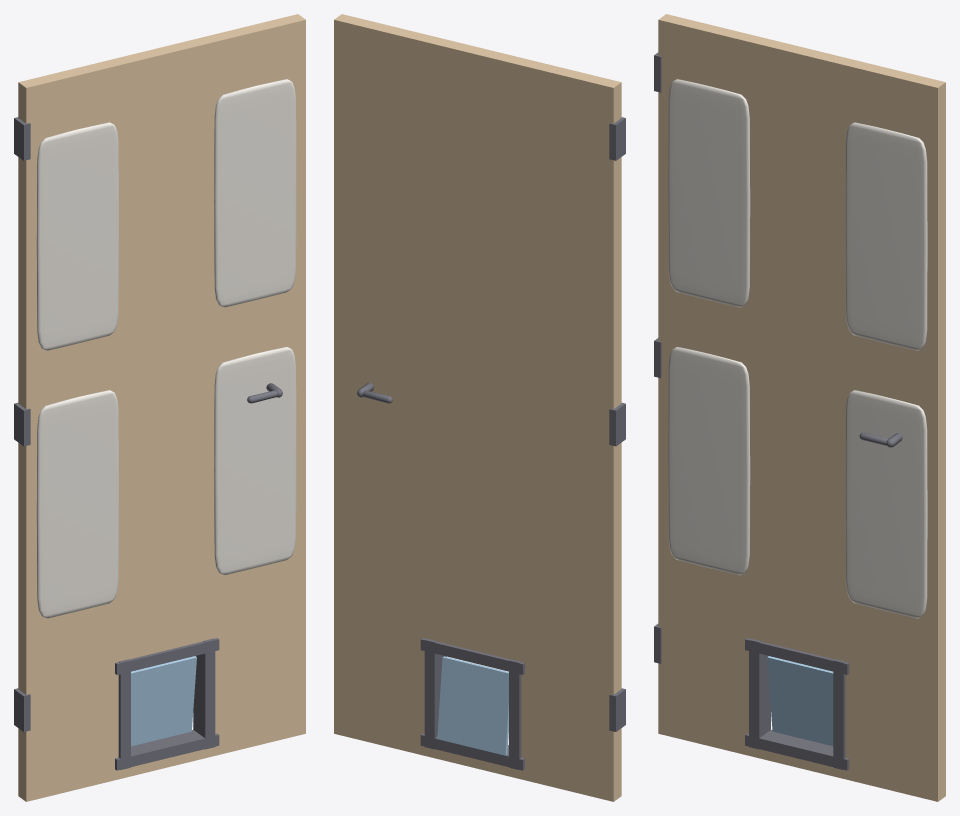
File: companion-animals-and-pet-home-cat-flap-door-951472d7__20644.glb
3 views of the same model, side by side, from view 1: azimuth 30°, elevation 25°; view 2: azimuth 150°, elevation 25°; view 3: azimuth 330°, elevation 25° (orthographic).
Visible parts, largest first — view 1: cat-flap-door, cat-flap; view 2: cat-flap-door, cat-flap; view 3: cat-flap-door, cat-flap.
Boxes of the visible parts, box(x1,y1,x2,y2) form: cat-flap-door: box(14, 14, 305, 801); cat-flap: box(131, 656, 196, 746); cat-flap-door: box(334, 14, 625, 801); cat-flap: box(437, 656, 508, 755); cat-flap-door: box(654, 14, 945, 801); cat-flap: box(767, 656, 833, 746).
Size of the model in its own units: 0.8299 by 2 by 0.1639.
